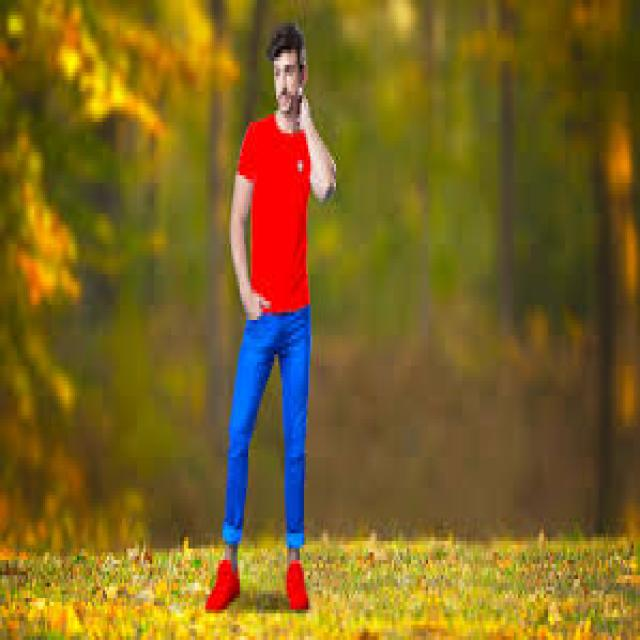Edited images: (198, 14, 333, 628)
